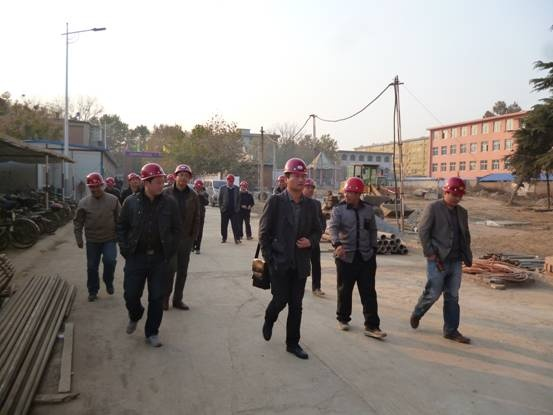red: (139, 163, 165, 194), (442, 174, 465, 204), (284, 159, 305, 190), (341, 177, 364, 203), (173, 163, 193, 188), (86, 172, 104, 196), (301, 177, 315, 196), (127, 171, 139, 187), (104, 175, 115, 189), (276, 174, 286, 188), (192, 179, 203, 191), (225, 173, 234, 186), (239, 180, 248, 192)
